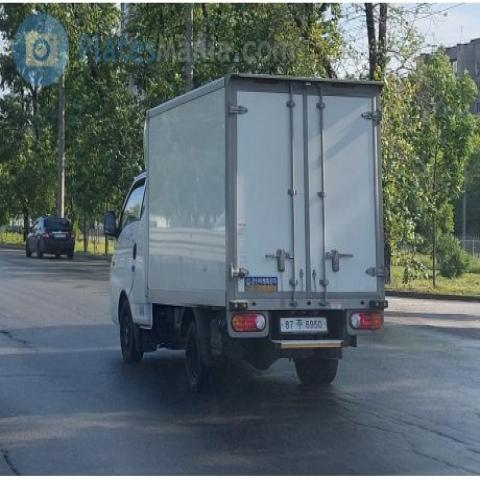LP: (277, 310, 338, 342)
